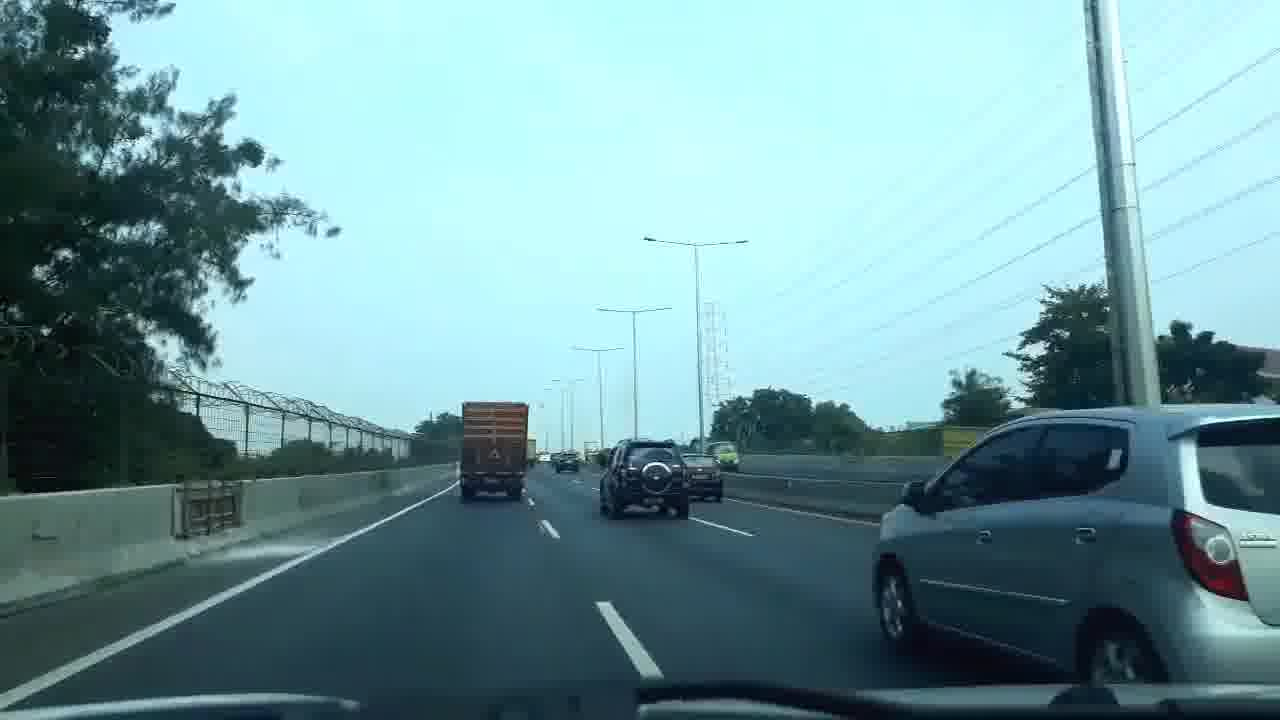plate_positive: (642, 497, 665, 505), (691, 473, 712, 480)
